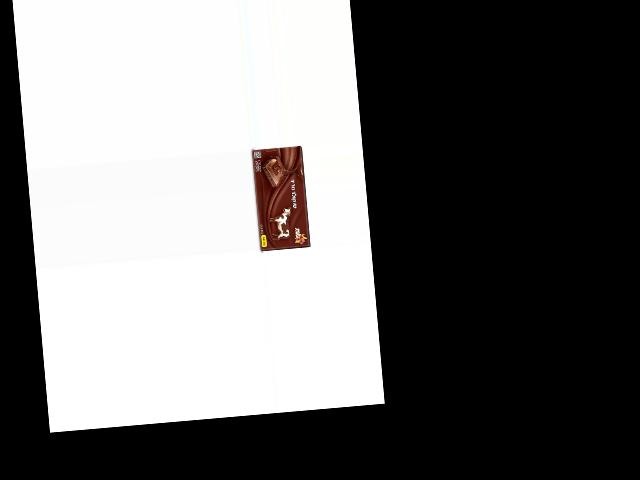chocolate: (251, 146, 311, 253)
